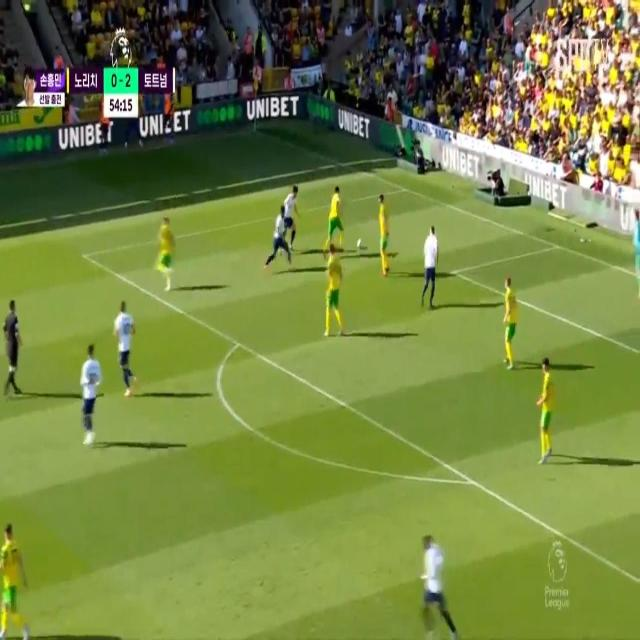ball: (354, 233, 364, 258)
player: (418, 534, 456, 629), (114, 303, 138, 402), (323, 235, 345, 339), (0, 518, 18, 640), (79, 334, 99, 442), (501, 276, 519, 375), (268, 202, 292, 272), (422, 228, 439, 321), (541, 351, 553, 478), (326, 182, 344, 262), (157, 215, 176, 285), (281, 192, 301, 250), (377, 190, 390, 278)
referee: (0, 286, 28, 392)
